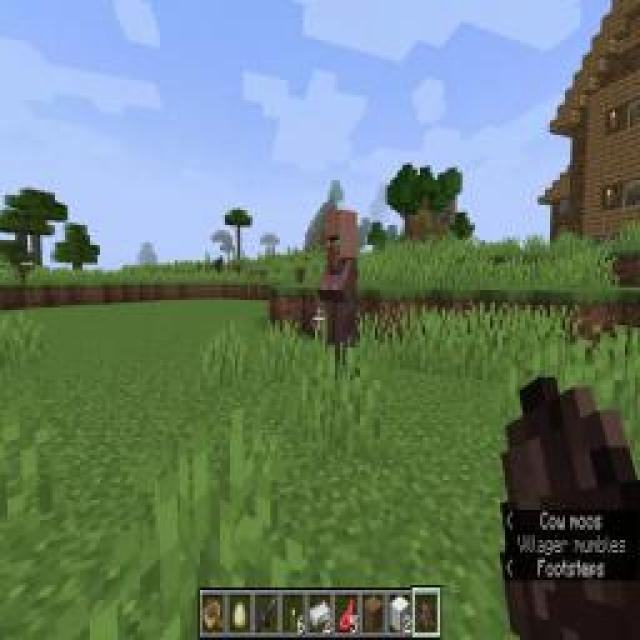Villager House: (314, 202, 364, 380)
